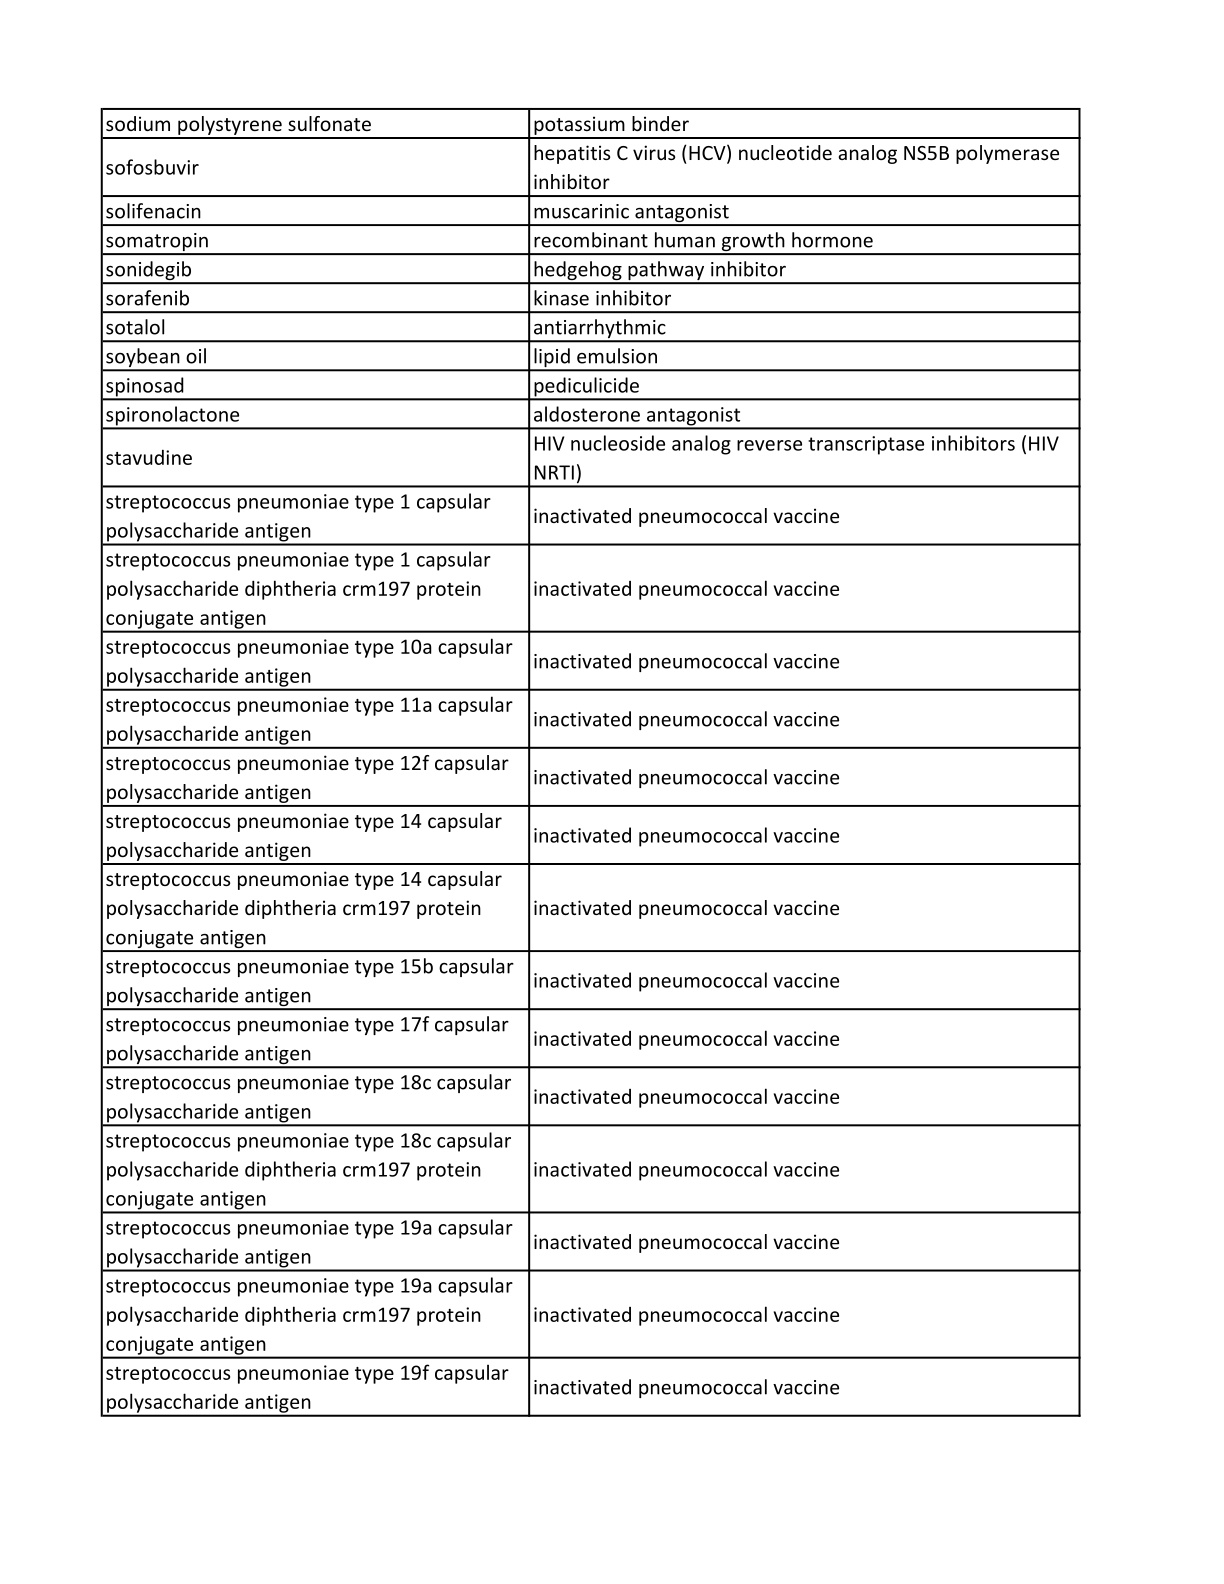full_lined: (100, 105, 1081, 1418)
